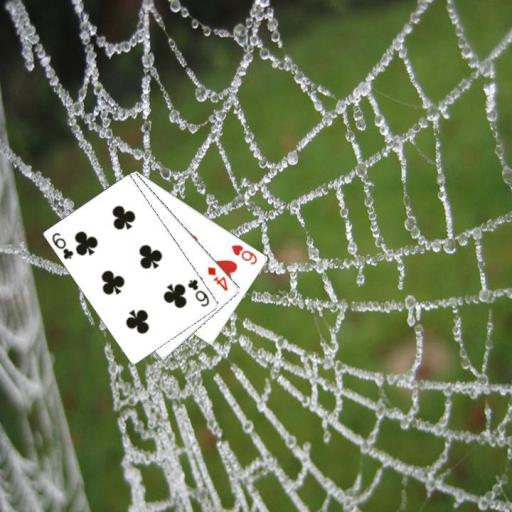4D: (205, 264, 230, 292)
6C: (185, 276, 211, 309), (49, 230, 75, 261)
6H: (228, 241, 259, 266)
